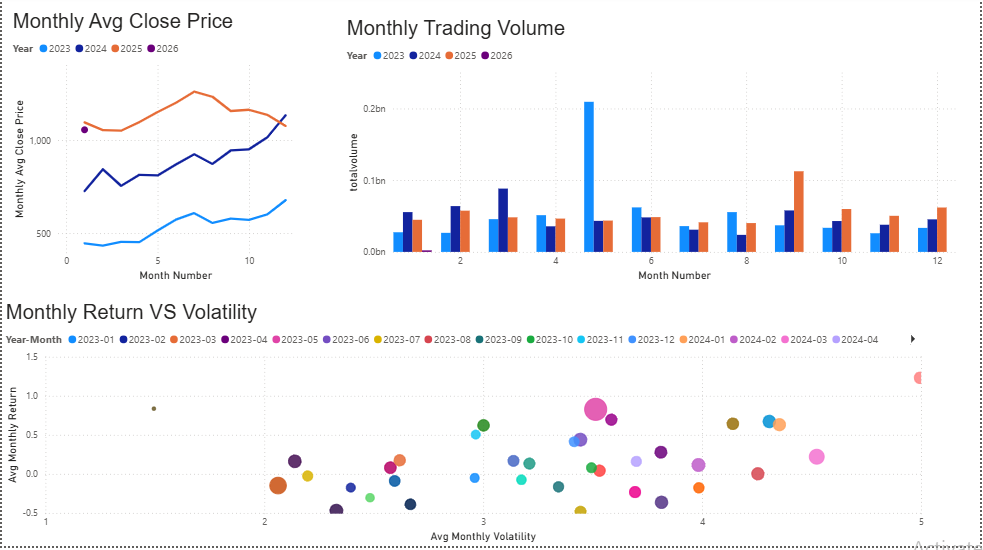

This screenshot's page, from the dashboard's own definition file:
{"tool":"powerbi","page":{"name":"monthly performance analysis","canvas":[1280,720],"ordinal":1},"visuals":[{"type":"lineChart","title":"Monthly Avg Close Price","fields":{"Series":["Calendar.Year"],"Y":["public vw_maxhealthcare_analysis.Monthly Avg Close Price"],"Category":["Calendar.Month Number"]},"box":[9.2,18.3,377,360],"z":0},{"type":"clusteredColumnChart","title":"Monthly Trading Volume","fields":{"Category":["Calendar.Month Number"],"Series":["Calendar.Year"],"Y":["public vw_maxhealthcare_analysis.totalvolume"]},"box":[446.4,27.5,807.7,350.8],"z":1000},{"type":"scatterChart","title":"Monthly Return VS Volatility","fields":{"X":["public vw_maxhealthcare_analysis.Avg Monthly Volatility"],"Y":["public vw_maxhealthcare_analysis.Avg Monthly Return"],"Size":["public vw_maxhealthcare_analysis.Total Monthly Volume"],"Series":["Calendar.Year-Month"]},"box":[0,399.3,1212.2,320.7],"z":2000}]}

Visuals, with their boxes in screenshot pixels (x1, y1, x2, y2), scaled from the page's 1280x720 canvas onto the 983x550 screenshot:
"Monthly Avg Close Price" lineChart: left=7, top=14, right=297, bottom=289
"Monthly Trading Volume" clusteredColumnChart: left=343, top=21, right=963, bottom=289
"Monthly Return VS Volatility" scatterChart: left=0, top=305, right=931, bottom=549
